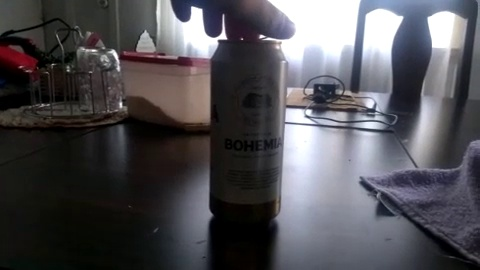bohemia: (197, 30, 303, 238)
